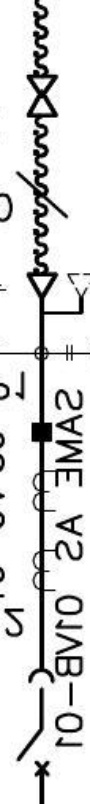terminator_splicing_kits: (25, 74, 59, 119)
